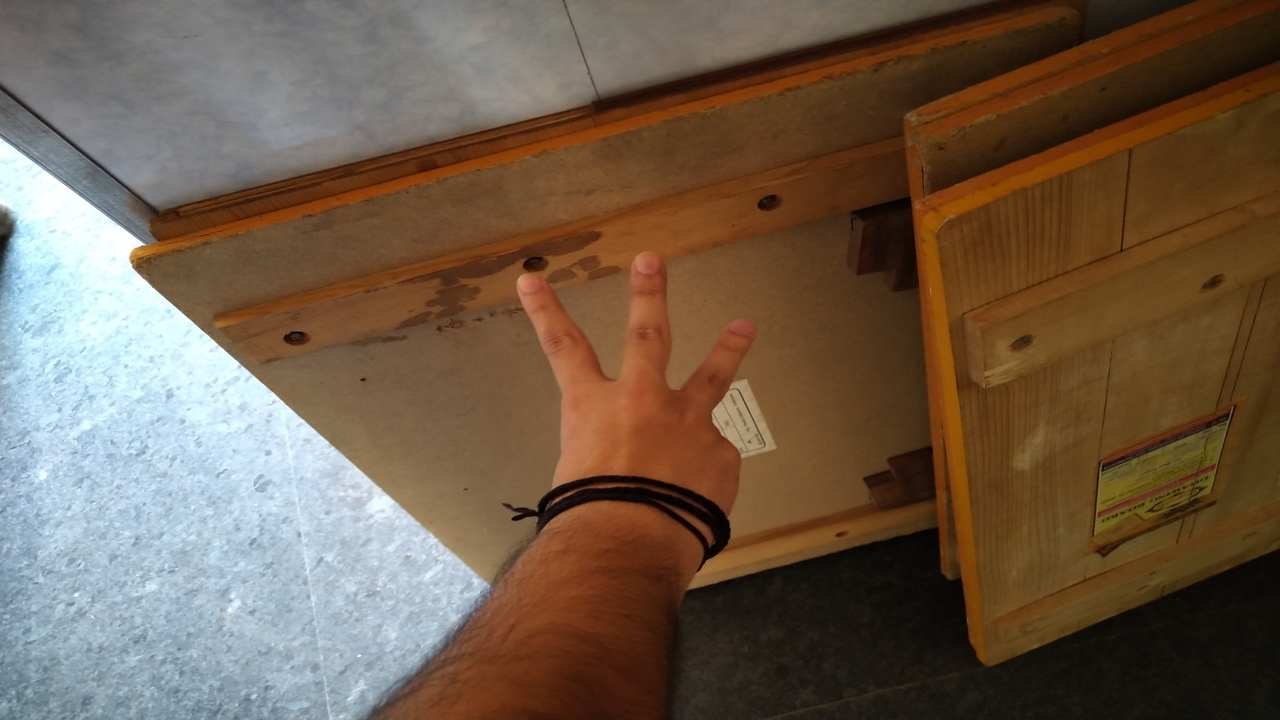fingertip: (706, 308, 766, 356), (510, 244, 560, 300), (622, 238, 674, 284)
